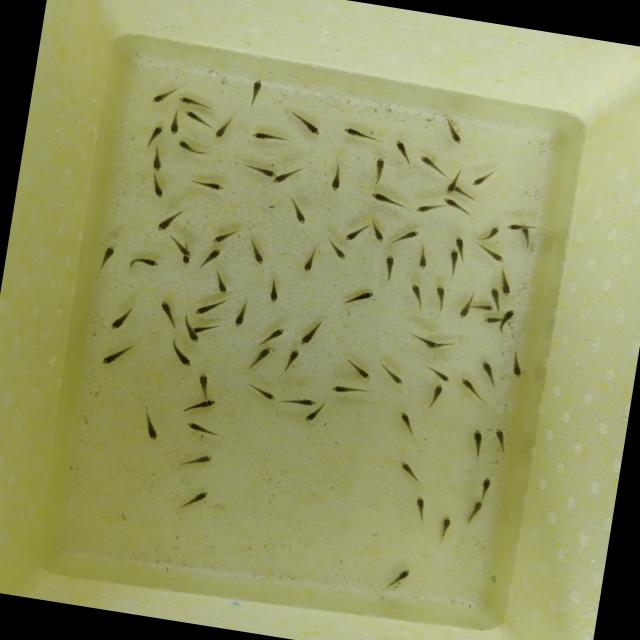fingerling: (186, 292, 226, 320), (173, 450, 212, 476), (136, 406, 164, 442), (101, 342, 135, 370), (182, 394, 220, 418), (246, 346, 276, 376), (472, 240, 508, 264), (166, 344, 197, 371), (154, 297, 180, 329), (383, 565, 412, 593), (105, 306, 132, 336), (158, 208, 188, 235), (380, 362, 411, 388), (180, 487, 212, 512), (241, 381, 279, 402), (458, 378, 488, 404), (296, 320, 322, 350), (442, 120, 468, 148), (259, 322, 288, 347), (394, 408, 418, 438), (209, 273, 236, 299), (390, 136, 414, 164), (388, 226, 419, 247), (198, 246, 223, 272), (246, 239, 270, 266), (128, 254, 162, 273), (396, 462, 424, 485), (346, 288, 378, 308), (178, 108, 210, 128), (282, 348, 304, 377), (368, 192, 403, 210), (344, 360, 374, 381), (346, 220, 372, 244), (166, 235, 193, 258), (272, 168, 300, 190), (143, 122, 165, 150), (192, 176, 226, 194), (415, 153, 445, 173), (488, 429, 511, 455), (406, 334, 442, 350), (286, 201, 310, 225), (469, 170, 495, 192), (478, 356, 500, 382), (192, 368, 214, 394), (296, 120, 326, 139), (434, 516, 453, 546), (466, 500, 487, 527), (185, 421, 218, 438), (210, 228, 238, 248), (300, 406, 328, 426), (182, 316, 202, 344), (467, 430, 487, 458), (406, 282, 427, 308), (171, 140, 205, 156), (147, 86, 174, 106), (214, 115, 234, 142), (427, 366, 454, 386), (340, 128, 378, 142), (279, 395, 317, 409), (327, 243, 352, 264), (477, 222, 503, 242), (265, 272, 281, 304), (328, 384, 364, 398), (508, 352, 526, 380), (177, 95, 210, 110), (369, 218, 388, 244), (441, 197, 470, 214), (413, 496, 431, 523), (416, 201, 446, 217), (234, 298, 249, 330), (300, 246, 317, 274), (99, 244, 118, 269), (252, 132, 290, 144), (496, 276, 516, 298), (427, 383, 445, 407), (150, 174, 168, 198), (500, 308, 518, 332), (371, 156, 387, 183), (432, 282, 450, 306), (447, 249, 462, 277), (479, 474, 494, 502), (148, 153, 166, 176), (460, 292, 474, 320), (486, 286, 504, 307), (328, 169, 343, 194), (168, 113, 182, 139), (246, 165, 276, 177), (418, 246, 432, 270), (446, 174, 460, 198), (250, 76, 262, 104), (383, 254, 396, 279), (521, 228, 533, 252), (504, 218, 524, 232), (452, 234, 467, 252), (176, 256, 196, 266), (475, 303, 494, 313), (482, 317, 502, 326)
